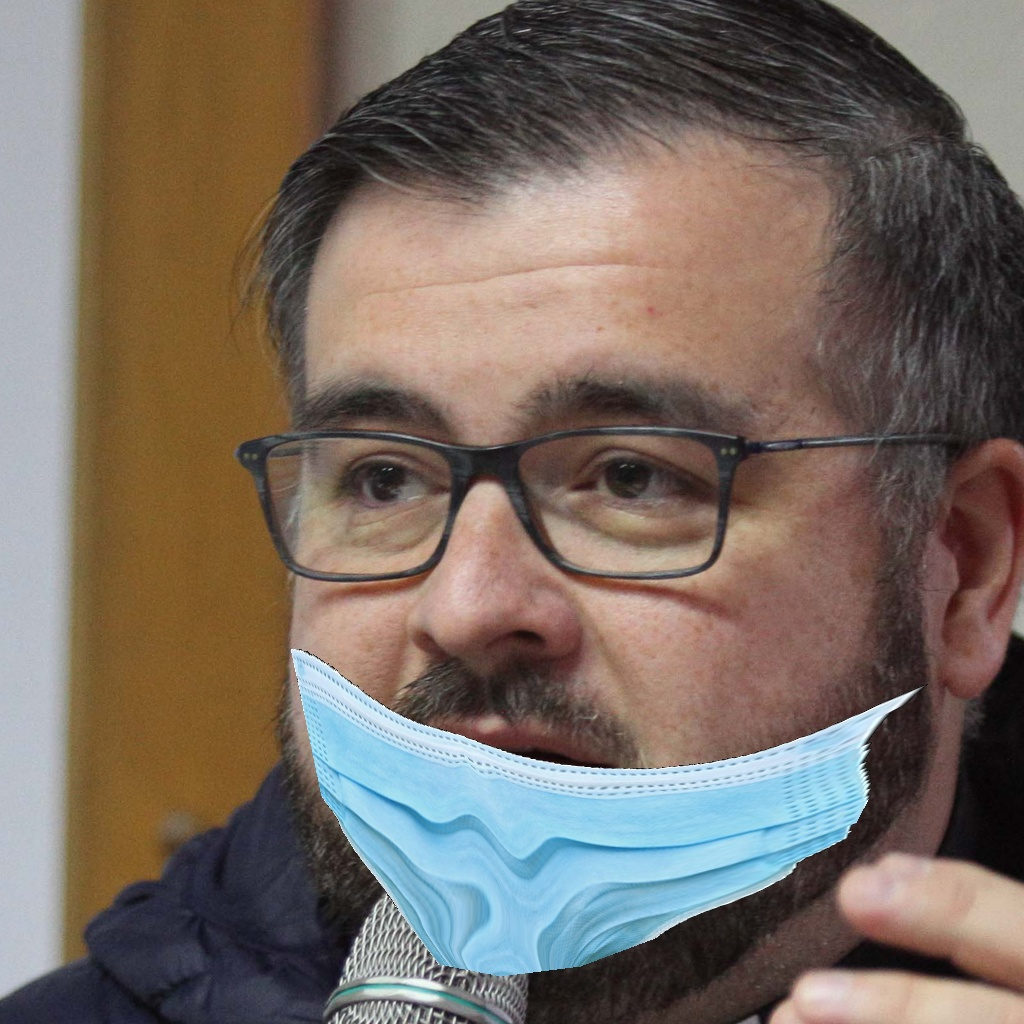mascarilla_mal_puesta: (242, 335, 867, 978)
